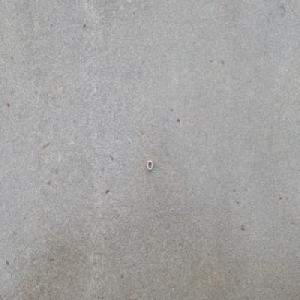Nut: (146, 159, 153, 171)
